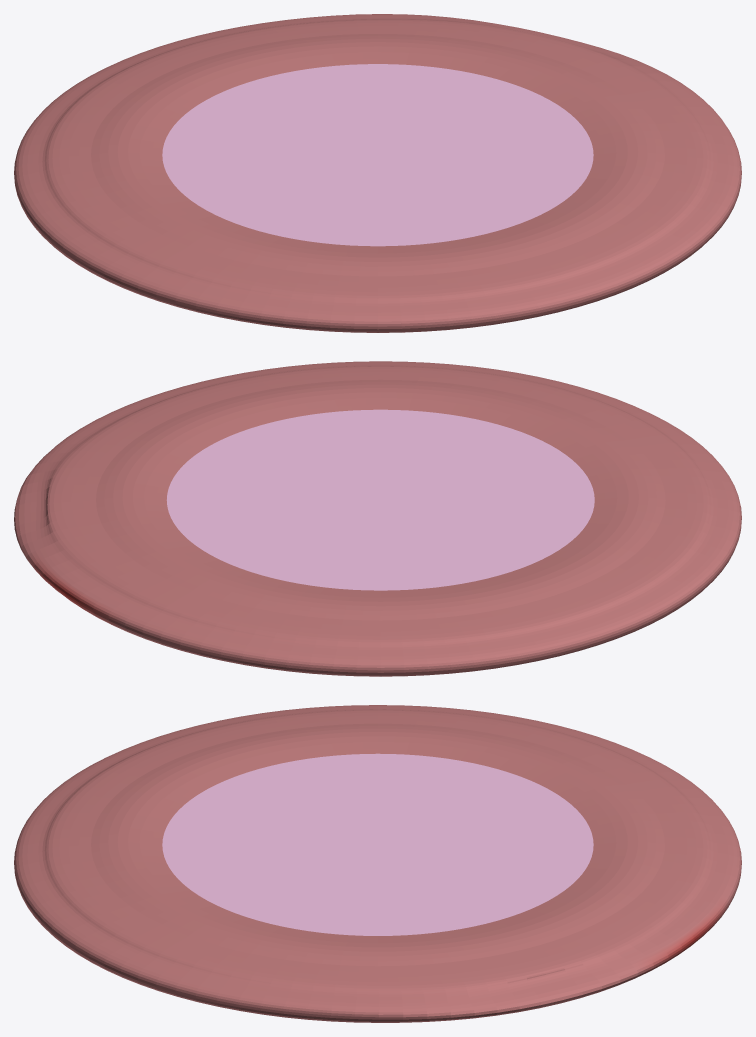
The model's file is cake_layer_cream.glb.
3 views of the same model, one above another, from view 1: azimuth 30°, elevation 25°; view 2: azimuth 150°, elevation 25°; view 3: azimuth 270°, elevation 25° (orthographic).
Visible parts, largest first — view 1: Cylinder.007; view 2: Cylinder.007; view 3: Cylinder.007.
Boxes of the visible parts, bbox=[...] form: Cylinder.007: bbox=[14, 14, 741, 332]; Cylinder.007: bbox=[14, 361, 741, 676]; Cylinder.007: bbox=[14, 705, 741, 1022].
Bounding box in the file's own units: 0.1707 × 0.0109 × 0.1701.
